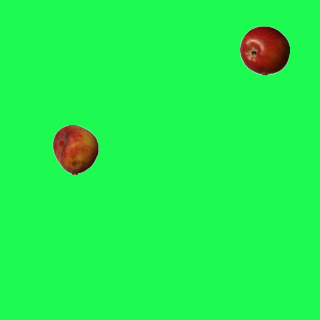Apple Braeburn: (239, 25, 289, 75)
Peach: (50, 124, 100, 174)
